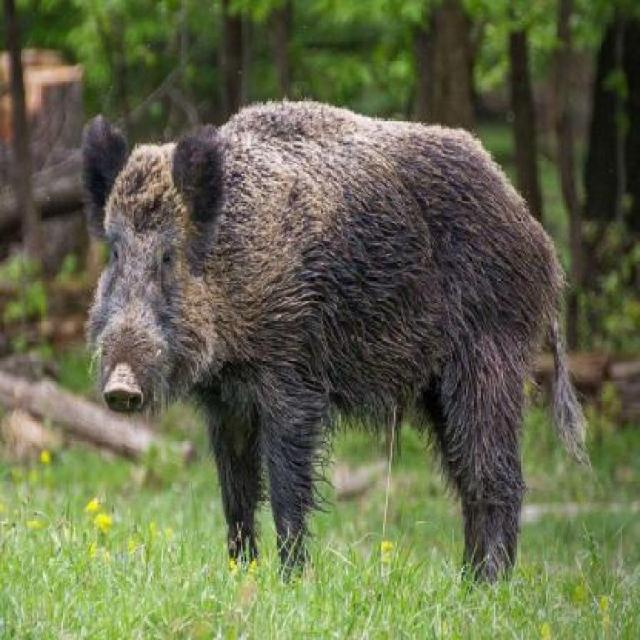wildboar: (72, 89, 600, 596)
